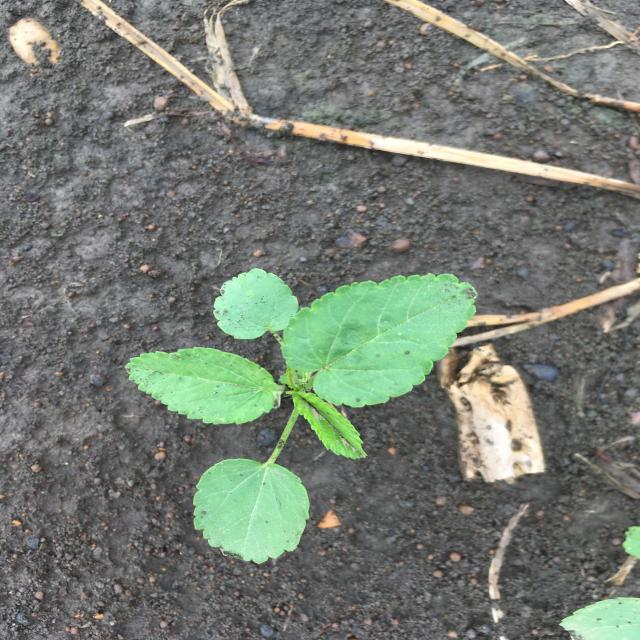PricklySida: (124, 267, 478, 564)
